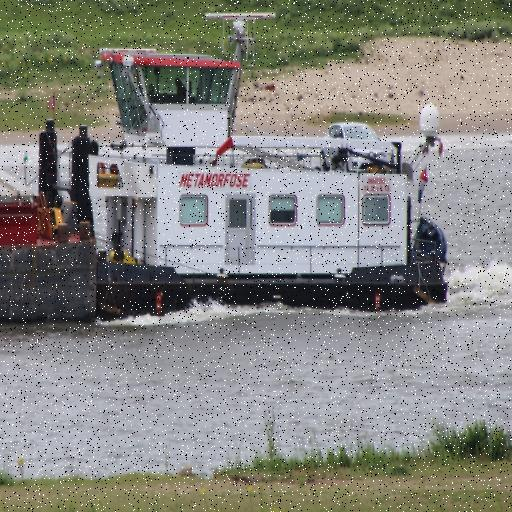tugboat: (25, 8, 456, 327)
